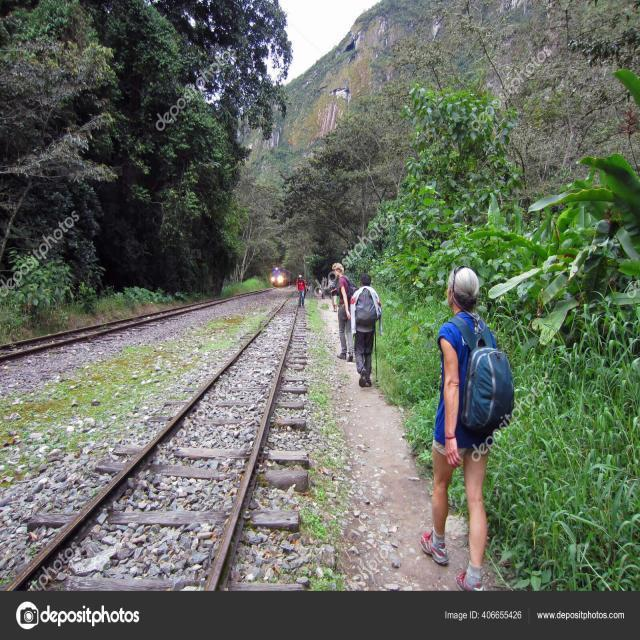rail: (1, 282, 316, 601), (4, 286, 287, 372)
